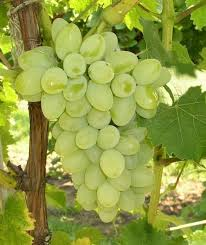grapes: (19, 25, 167, 222)
